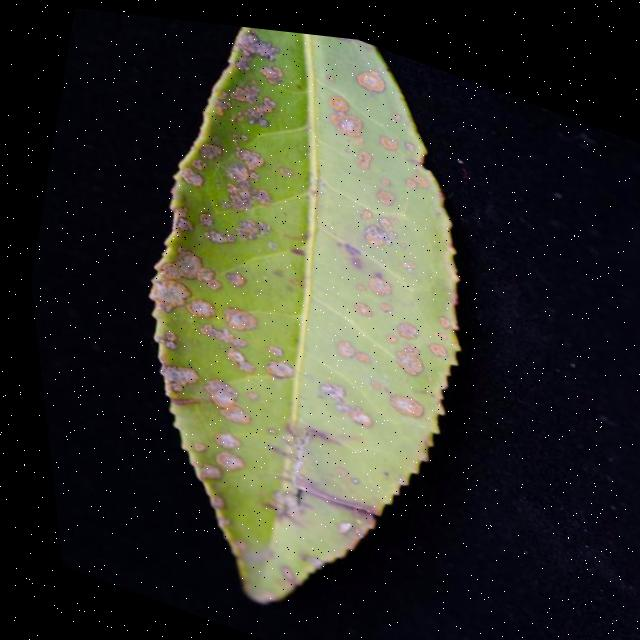Tea red rust: (62, 6, 532, 621)
